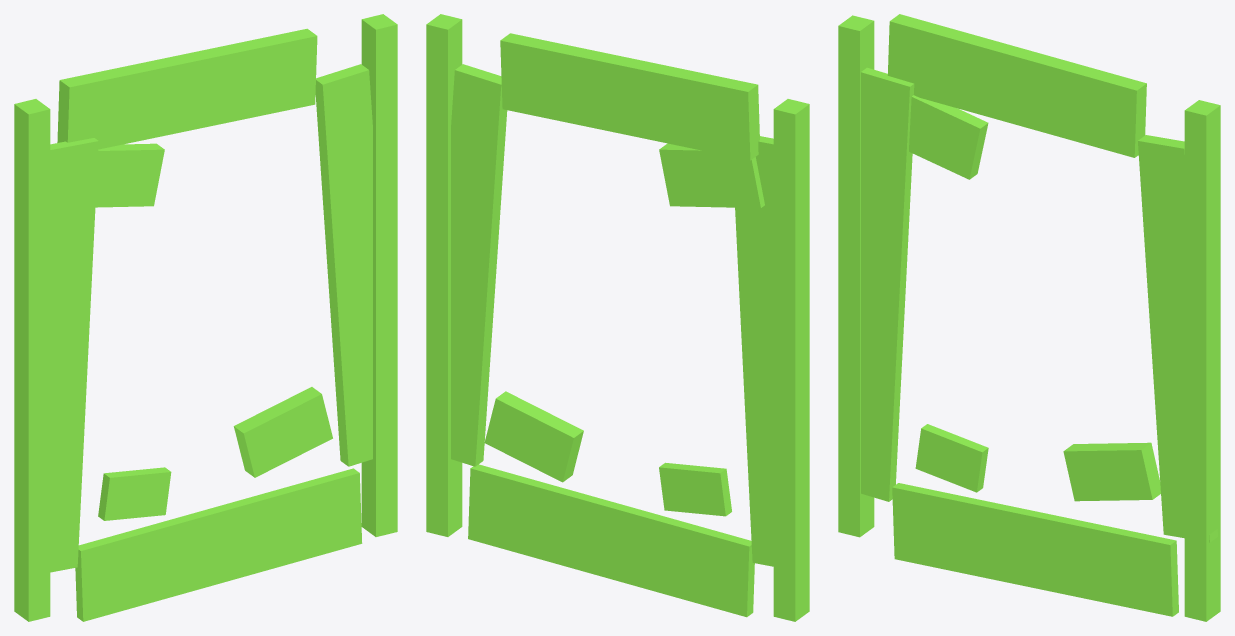
File: portal_core_unlocked.glb
3 renders of one model, left to right at view 1: azimuth 30°, elevation 25°; view 2: azimuth 150°, elevation 25°; view 3: azimuth 330°, elevation 25°, orthographic.
Parts seen in each view (by area): view 1: portal_core_unlocked; view 2: portal_core_unlocked; view 3: portal_core_unlocked.
Boxes of the visible parts, <box> form: portal_core_unlocked: <box>14,14,397,621</box>; portal_core_unlocked: <box>426,14,809,621</box>; portal_core_unlocked: <box>838,14,1220,621</box>.
Bounding box in the file's own units: 2.38 × 3.29 × 0.171.
